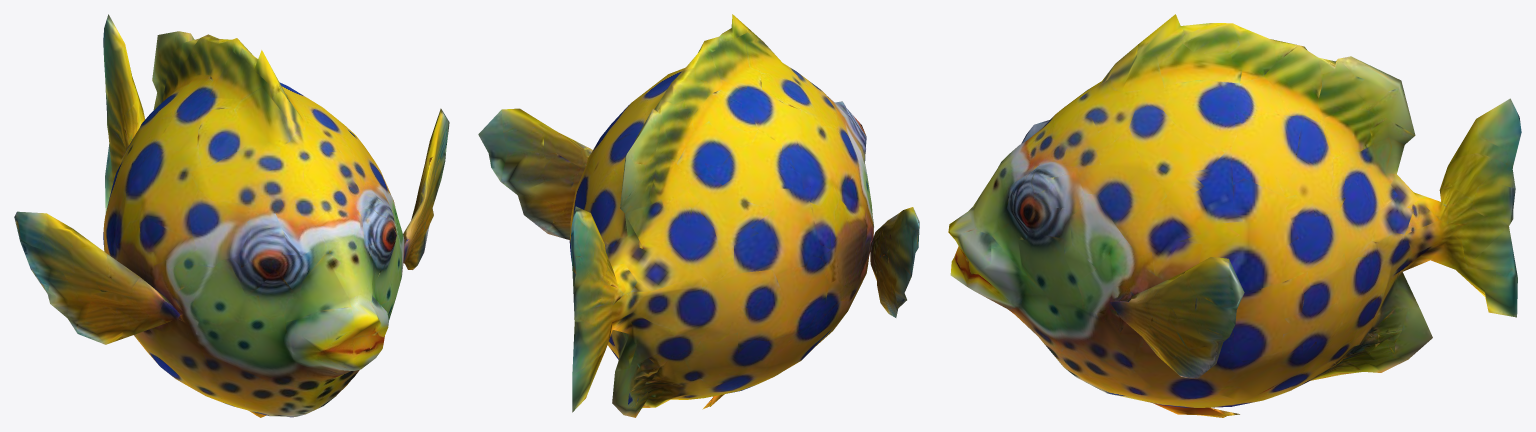
The model's file is fish_spotted.glb.
3 renders of one model, left to right at view 1: azimuth 30°, elevation 25°; view 2: azimuth 150°, elevation 25°; view 3: azimuth 270°, elevation 25°, orthographic. The views are drawn at different scales.
Parts seen in each view (by area): view 1: fish_spotted; view 2: fish_spotted; view 3: fish_spotted.
Part boxes in pixels (x1=…): fish_spotted: x1=14, y1=14, x2=449, y2=417; fish_spotted: x1=478, y1=14, x2=919, y2=417; fish_spotted: x1=948, y1=14, x2=1521, y2=417.
Size of the model in its own units: 0.9482 by 0.7747 by 0.9961.
1 material, 1 textured.
